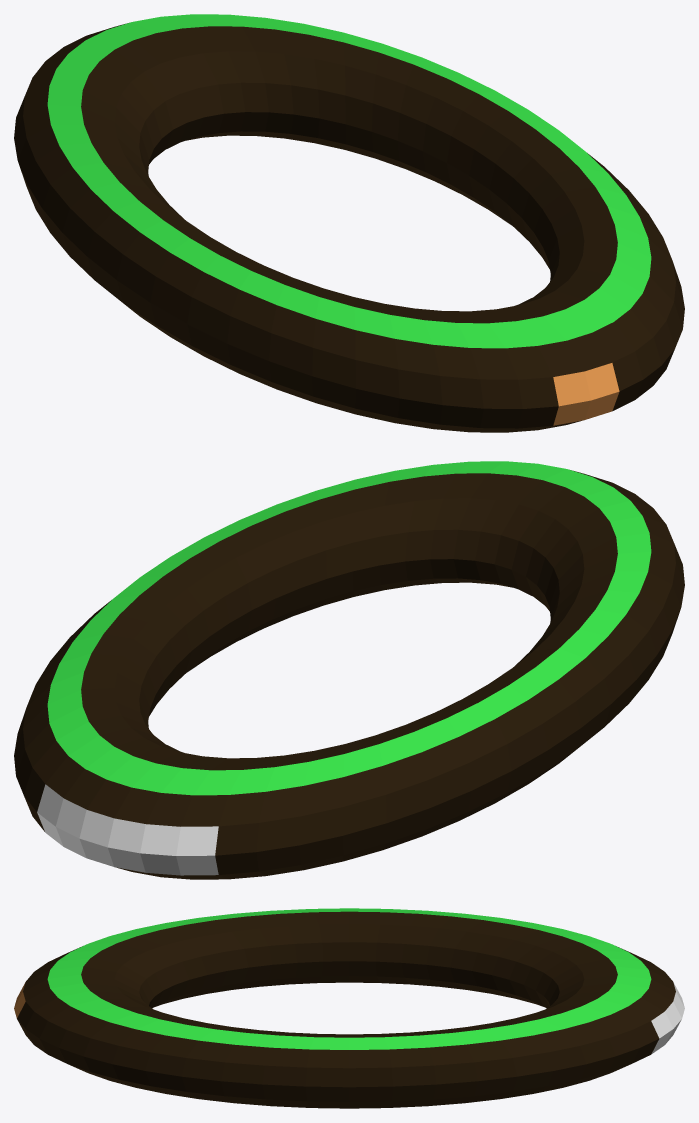
3 views of the same model, one above another, from view 1: azimuth 30°, elevation 25°; view 2: azimuth 150°, elevation 25°; view 3: azimuth 270°, elevation 25° (orthographic). The views are drawn at different scales.
Parts seen in each view (by area): view 1: body; view 2: body; view 3: body.
Boxes of the visible parts, left/top/right/bottom form: body: left=14, top=14, right=684, bottom=432; body: left=14, top=461, right=684, bottom=879; body: left=14, top=908, right=684, bottom=1108.
Size of the model in its own units: 2.5 by 0.5 by 4.5.
